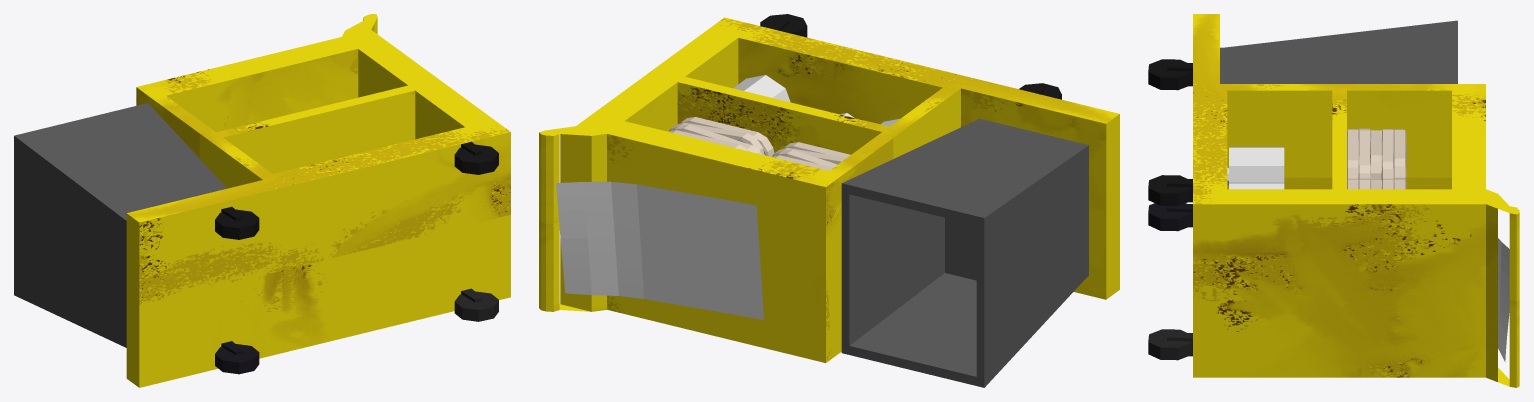
Rendered from Carro.fbx.
3 views of the same model, side by side, from view 1: azimuth 30°, elevation 25°; view 2: azimuth 150°, elevation 25°; view 3: azimuth 270°, elevation 25° (orthographic). The views are drawn at different scales.
Visible parts, largest first — view 1: Carro, Cubo, Rueda4, Rueda4.002, Rueda4.001, Rueda4.003; view 2: Carro, Cubo, Trapo, PapelHigienico.004, Rueda4.001, Toalla.005, Toalla.001, Toalla.002; view 3: Carro, Cubo, PapelHigienico.003, Rueda4, Rueda4.001, Rueda4.003, Trapo, Rueda4.002, Toalla.010, Toalla.007, Toalla.009, Toalla.006 (+2 smaller).
Boxes of the visible parts, <box> form: Carro: <box>126,14,510,387</box>; Cubo: <box>14,103,226,347</box>; Rueda4: <box>454,288,498,321</box>; Rueda4.002: <box>215,341,259,374</box>; Rueda4.001: <box>454,141,498,174</box>; Rueda4.003: <box>215,206,259,239</box>; Carro: <box>539,17,1119,362</box>; Cubo: <box>841,118,1088,387</box>; Trapo: <box>556,181,763,319</box>; PapelHigienico.004: <box>733,75,790,102</box>; Rueda4.001: <box>760,14,807,37</box>; Toalla.005: <box>680,117,774,156</box>; Toalla.001: <box>669,122,764,155</box>; Toalla.002: <box>674,124,761,154</box>; Carro: <box>1193,14,1519,387</box>; Cubo: <box>1220,20,1457,83</box>; PapelHigienico.003: <box>1227,147,1284,185</box>; Rueda4: <box>1148,329,1192,360</box>; Rueda4.001: <box>1148,175,1192,205</box>; Rueda4.003: <box>1148,59,1192,90</box>; Trapo: <box>1498,238,1509,361</box>; Rueda4.002: <box>1148,203,1192,231</box>; Toalla.010: <box>1393,129,1406,181</box>; Toalla.007: <box>1358,128,1371,179</box>; Toalla.009: <box>1381,129,1394,179</box>; Toalla.006: <box>1347,129,1359,180</box>.
Bounding box in the file's own units: 163 × 65.6 × 127.
